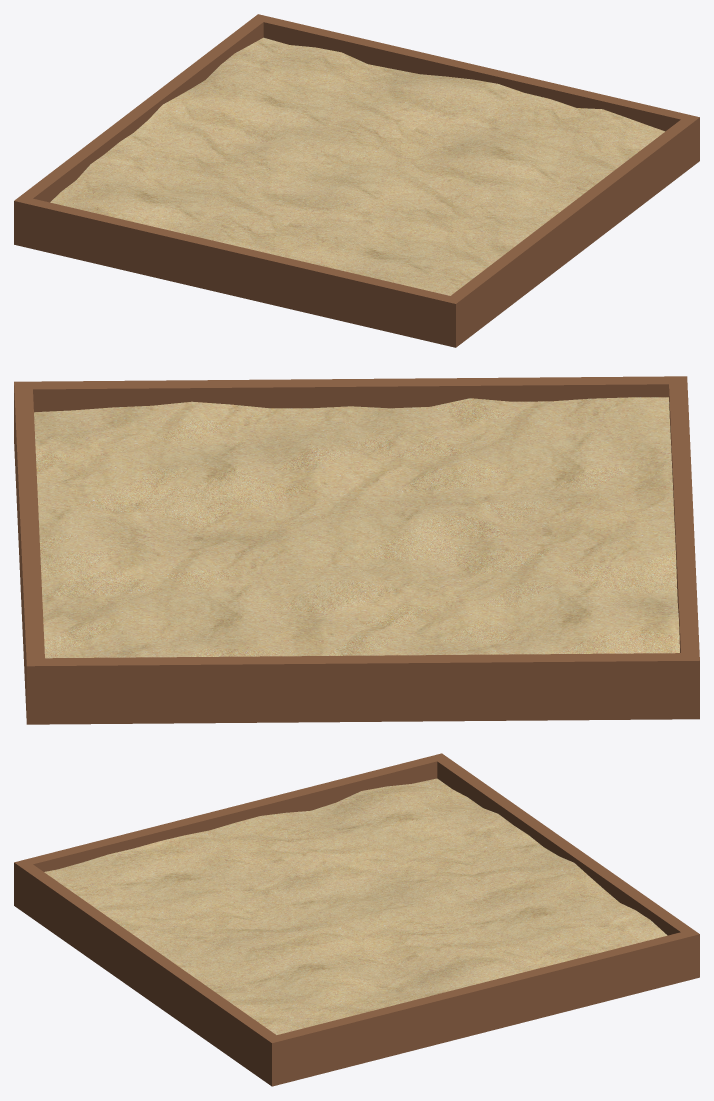
File: sandbox1.glb
The picture shows the model from 3 angles, top to bottom: view 1: azimuth 30°, elevation 25°; view 2: azimuth 150°, elevation 25°; view 3: azimuth 270°, elevation 25°; orthographic projection. The views are drawn at different scales.
Parts seen in each view (by area): view 1: sandbox1; view 2: sandbox1; view 3: sandbox1.
Part boxes in pixels (box(x1,y1,x2,y2)): sandbox1: box(14, 14, 699, 347); sandbox1: box(14, 376, 699, 724); sandbox1: box(14, 753, 699, 1086).
Size of the model in its own units: 2.66 by 0.1858 by 2.66.
2 materials, 1 textured.
